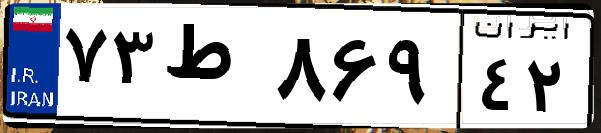2: (525, 38, 570, 115)
3: (110, 28, 158, 98)
4: (475, 38, 525, 113)
6: (330, 28, 385, 110)
7: (57, 26, 110, 100)
8: (270, 28, 330, 110)
9: (385, 28, 445, 110)
ط: (158, 20, 270, 120)
